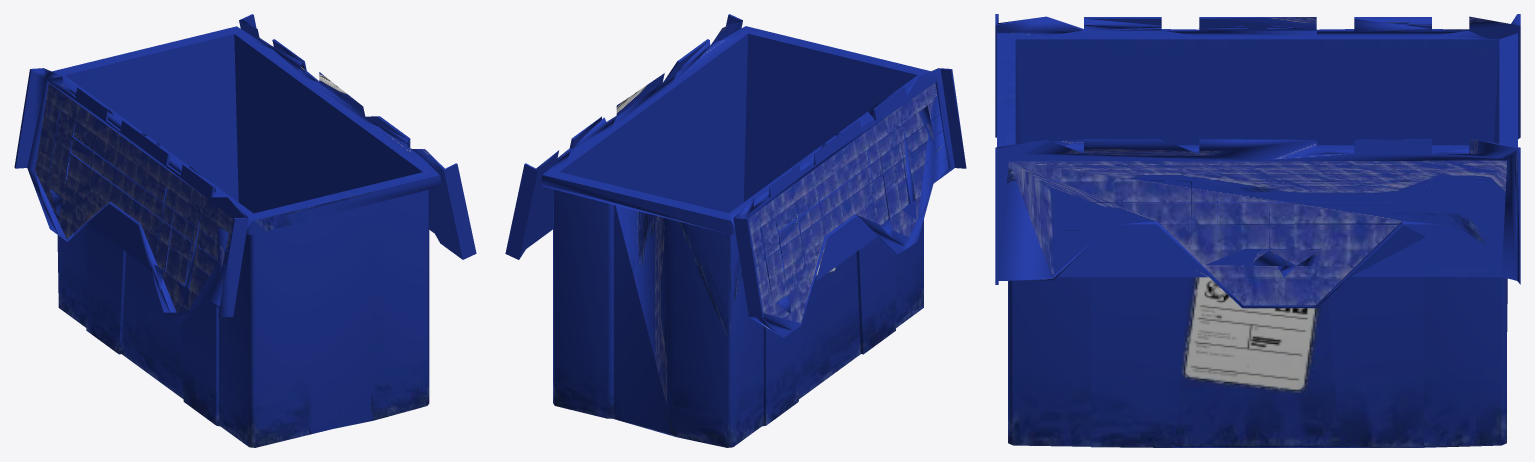
Rendered from industrial_pastic_container.glb.
The picture shows the model from 3 angles, left to right: view 1: azimuth 30°, elevation 25°; view 2: azimuth 150°, elevation 25°; view 3: azimuth 270°, elevation 25°; orthographic projection. The views are drawn at different scales.
Parts seen in each view (by area): view 1: industrial_pastic_container, industrial_pastic_container_lid_b, industrial_pastic_container_lid_a; view 2: industrial_pastic_container, industrial_pastic_container_lid_b, industrial_pastic_container_lid_a; view 3: industrial_pastic_container, industrial_pastic_container_lid_a, industrial_pastic_container_lid_b.
Boxes of the visible parts, x1,y1,x2,y2 form: industrial_pastic_container: [52, 26, 441, 447]; industrial_pastic_container_lid_b: [14, 68, 248, 325]; industrial_pastic_container_lid_a: [239, 14, 476, 259]; industrial_pastic_container: [540, 26, 930, 447]; industrial_pastic_container_lid_b: [733, 68, 966, 337]; industrial_pastic_container_lid_a: [505, 14, 742, 259]; industrial_pastic_container: [997, 30, 1517, 447]; industrial_pastic_container_lid_a: [995, 139, 1520, 308]; industrial_pastic_container_lid_b: [995, 14, 1520, 138].
Size of the model in its own units: 0.4572 by 0.4188 by 0.6314.
Materials: 1 (1 with a texture image).
